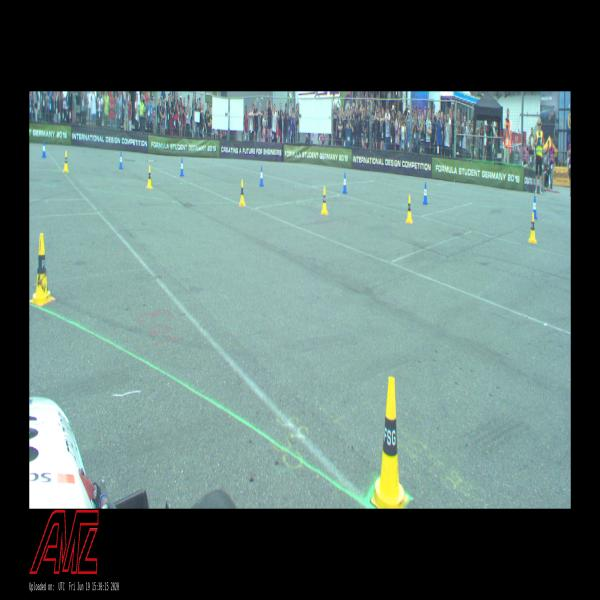blue_cone: (531, 196, 538, 219), (259, 167, 265, 186), (423, 183, 428, 204), (342, 173, 347, 194), (180, 158, 184, 176), (42, 141, 46, 158), (119, 152, 123, 169)
yellow_cone: (371, 377, 408, 508), (30, 234, 54, 305), (528, 213, 537, 243), (406, 195, 413, 224), (321, 186, 328, 214), (239, 180, 246, 207), (62, 151, 70, 172), (147, 166, 153, 188)
